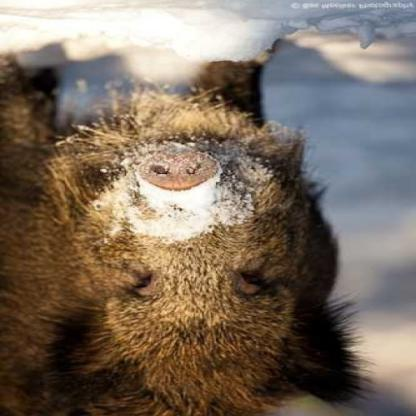boar: (0, 5, 380, 416)
